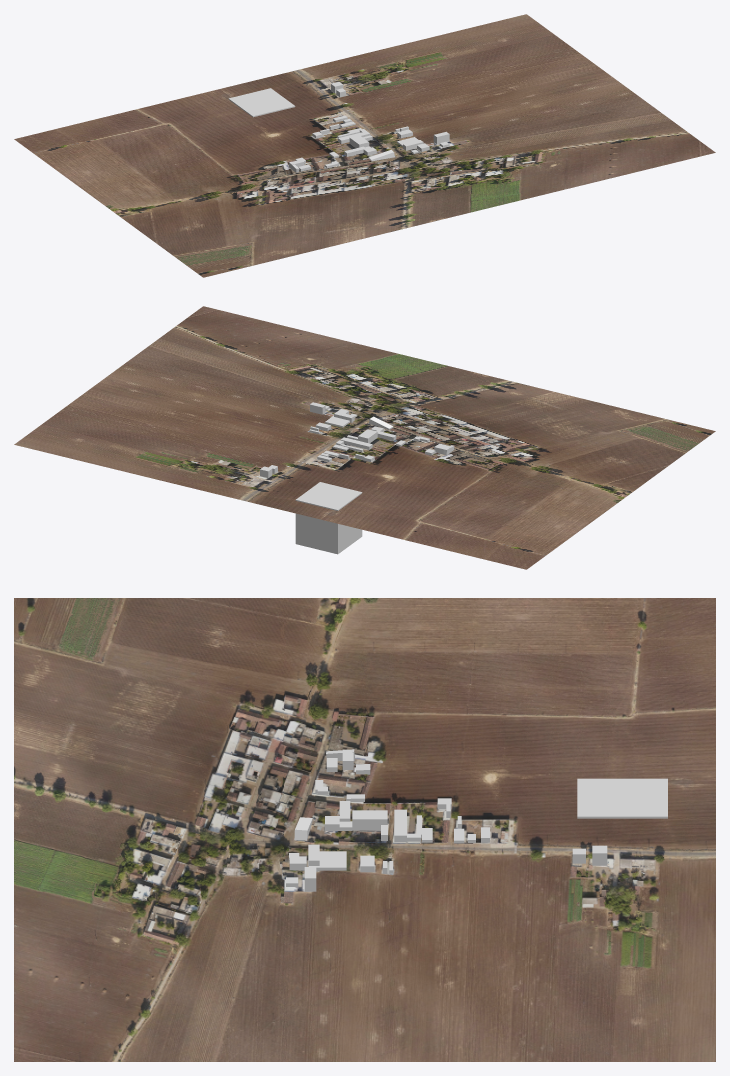
The model's file is guj1.glb.
The picture shows the model from 3 angles, top to bottom: view 1: azimuth 30°, elevation 25°; view 2: azimuth 150°, elevation 25°; view 3: azimuth 270°, elevation 25°; orthographic projection. The views are drawn at different scales.
Visible parts, largest first — view 1: Plane, Cube.035; view 2: Plane, Cube.035; view 3: Plane, Cube.035.
Boxes of the visible parts, left/top/right/bottom form: Plane: left=14, top=14, right=715, bottom=277; Cube.035: left=228, top=88, right=295, bottom=117; Plane: left=14, top=306, right=715, bottom=569; Cube.035: left=295, top=482, right=362, bottom=554; Plane: left=14, top=598, right=715, bottom=1061; Cube.035: left=577, top=778, right=667, bottom=818.
Bounding box in the file's own units: 24.21 × 2.28 × 15.49.
Materials: 4 (1 with a texture image).
